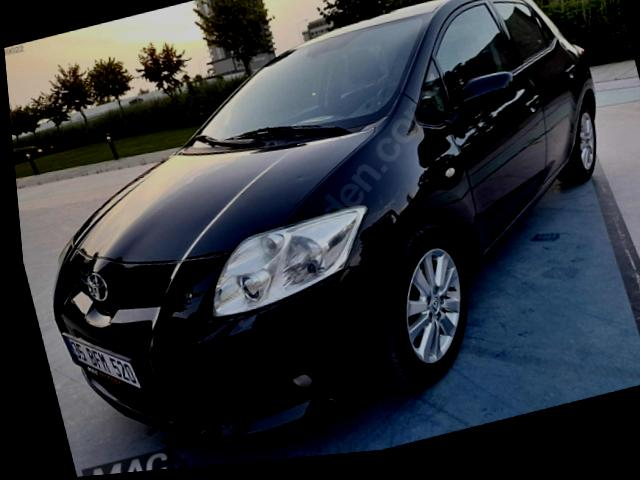plaka: (67, 337, 141, 390)
